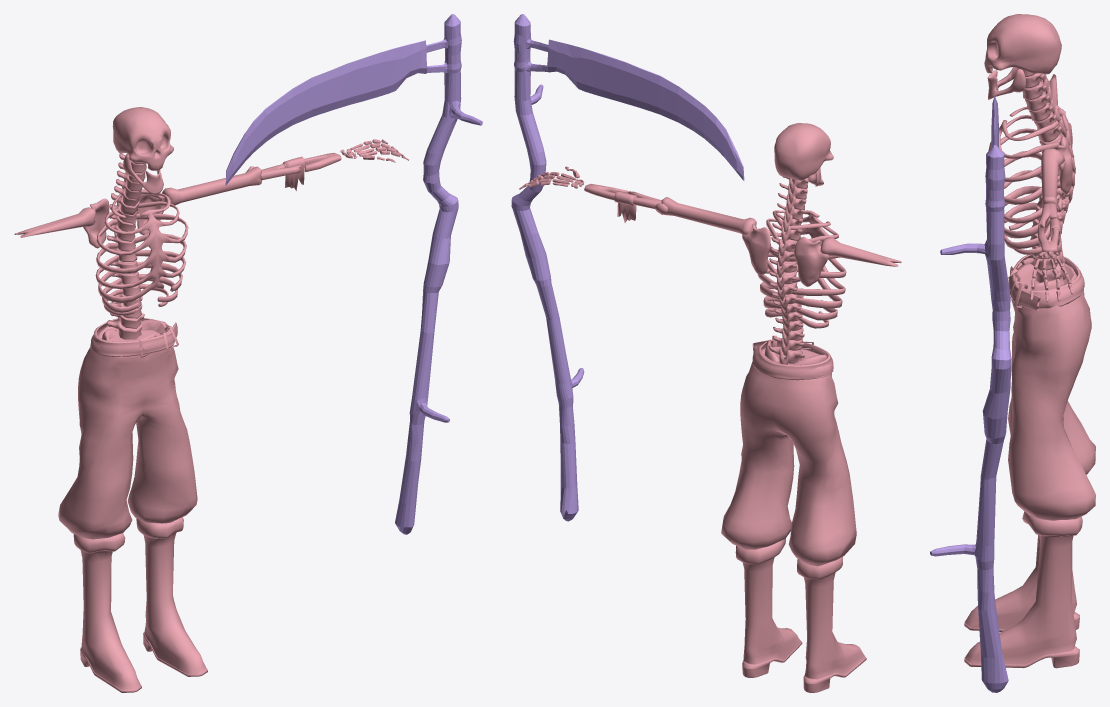
Rendered from Esqueleto_retopo_lipao.fbx.
3 renders of one model, left to right at view 1: azimuth 30°, elevation 25°; view 2: azimuth 150°, elevation 25°; view 3: azimuth 270°, elevation 25°, orthographic. The views are drawn at different scales.
Visible parts, largest first — view 1: Retopo_corpo, Retopo_foice; view 2: Retopo_corpo, Retopo_foice; view 3: Retopo_corpo, Retopo_foice.
Boxes of the visible parts, x1,y1,x2,y2 form: Retopo_corpo: (14, 107, 408, 692); Retopo_foice: (225, 14, 482, 534); Retopo_corpo: (519, 123, 901, 692); Retopo_foice: (511, 14, 744, 521); Retopo_corpo: (964, 14, 1095, 668); Retopo_foice: (930, 96, 1011, 692).
Bounding box in the file's own units: 147 × 196 × 44.47.
